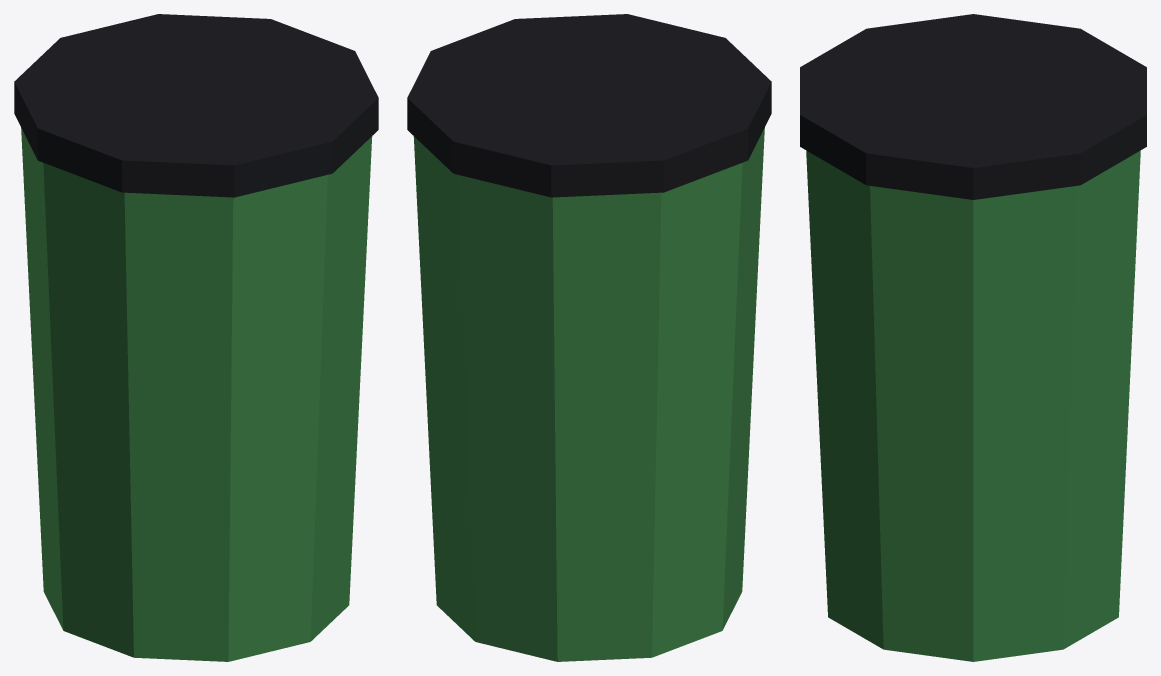
File: bin.glb
3 views of the same model, side by side, from view 1: azimuth 30°, elevation 25°; view 2: azimuth 150°, elevation 25°; view 3: azimuth 270°, elevation 25° (orthographic).
Visible parts, largest first — view 1: bin_Body; view 2: bin_Body; view 3: bin_Body.
Boxes of the visible parts, <box> form: bin_Body: <box>14,14,378,661</box>; bin_Body: <box>407,14,771,661</box>; bin_Body: <box>800,14,1146,661</box>.
Size of the model in its own units: 0.62 by 0.95 by 0.5897.
